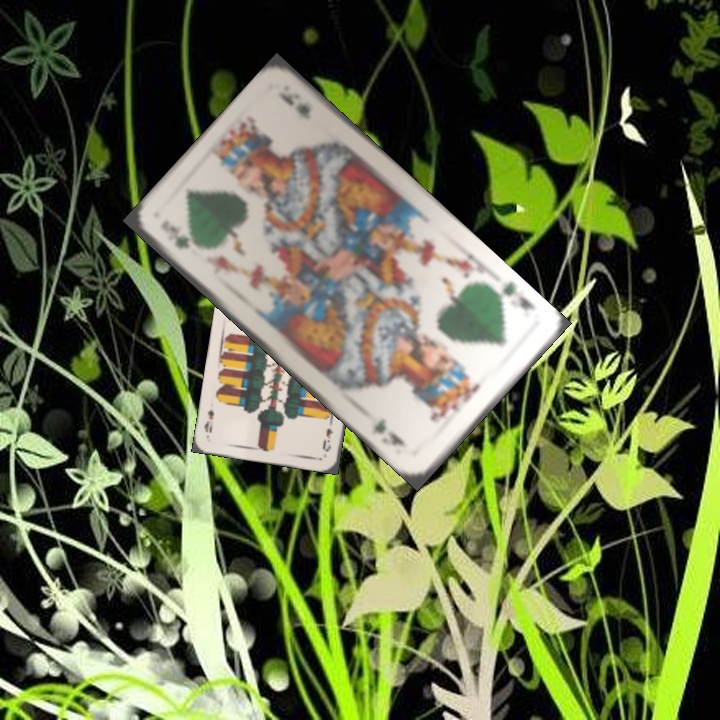E9: (318, 416, 335, 454)
GK: (487, 277, 539, 313), (165, 220, 192, 252)
